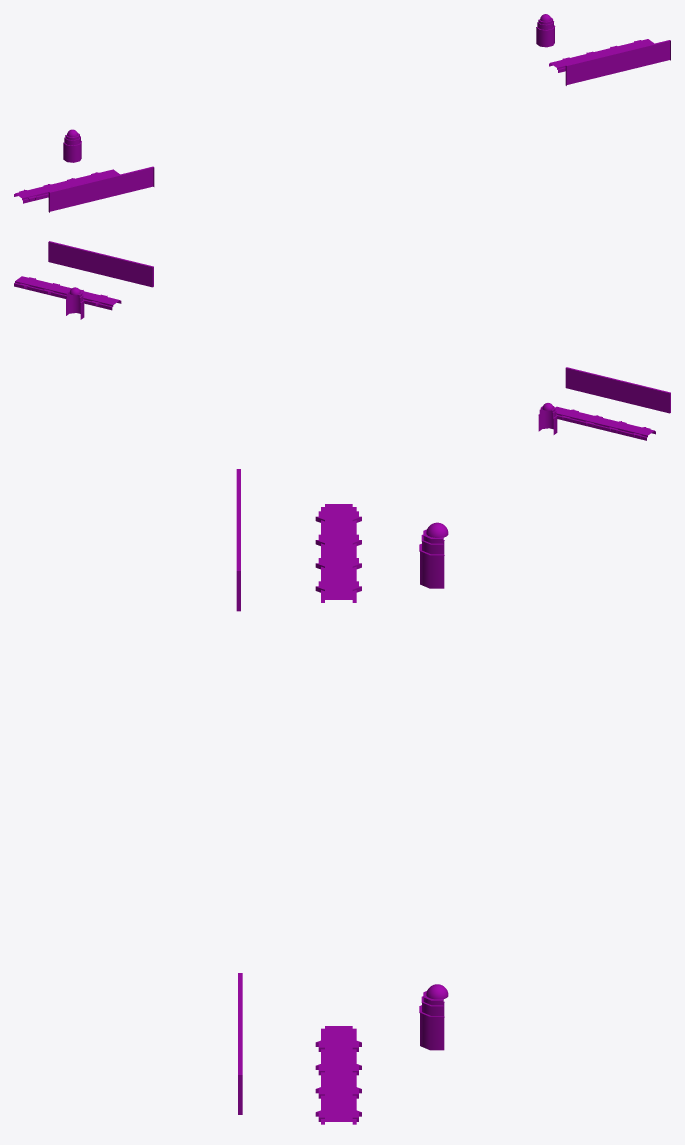
The model's file is Decor_wall_path_Low.fbx.
3 renders of one model, top to bottom at view 1: azimuth 30°, elevation 25°; view 2: azimuth 150°, elevation 25°; view 3: azimuth 270°, elevation 25°, orthographic. The views are drawn at different scales.
Parts seen in each view (by area): view 1: Decor_wall_Left_Low, Decor_wall_Right_Low, path_Left_Low, path_Right_Low, Decor_Column_Right_Low, Decor_Column_Left_Low; view 2: Decor_wall_Right_Low, Decor_wall_Left_Low, path_Left_Low, path_Right_Low, Decor_Column_Left_Low, Decor_Column_Right_Low; view 3: path_Right_Low, path_Left_Low, Decor_Column_Right_Low, Decor_Column_Left_Low.
Part boxes in pixels (<box>): Decor_wall_Left_Low: <box>48,166,154,212</box>; Decor_wall_Right_Low: <box>565,40,670,85</box>; path_Left_Low: <box>14,169,119,203</box>; path_Right_Low: <box>549,39,654,72</box>; Decor_Column_Right_Low: <box>536,14,555,47</box>; Decor_Column_Left_Low: <box>63,129,81,162</box>; Decor_wall_Right_Low: <box>48,241,153,287</box>; Decor_wall_Left_Low: <box>565,367,670,413</box>; path_Left_Low: <box>555,406,655,440</box>; path_Right_Low: <box>14,276,121,310</box>; Decor_Column_Left_Low: <box>538,403,557,434</box>; Decor_Column_Right_Low: <box>66,287,84,319</box>; path_Right_Low: <box>315,1026,361,1124</box>; path_Left_Low: <box>315,504,361,602</box>; Decor_Column_Right_Low: <box>419,984,448,1050</box>; Decor_Column_Left_Low: <box>419,522,448,588</box>.
Bounding box in the file's own units: 5283 × 264 × 765.
